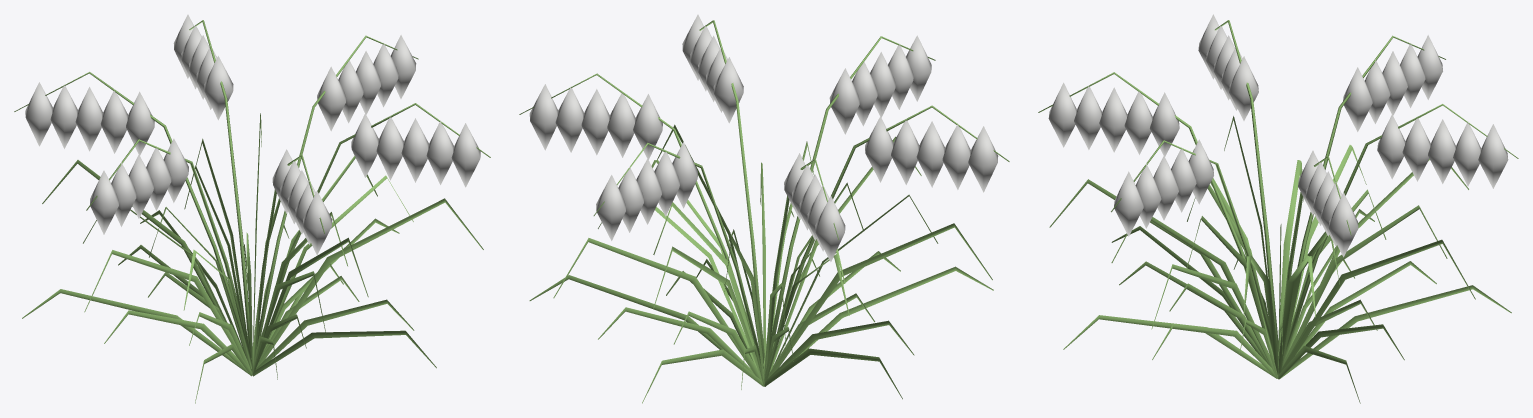
The model's file is grass_feather_grass.glb.
3 renders of one model, left to right at view 1: azimuth 30°, elevation 25°; view 2: azimuth 150°, elevation 25°; view 3: azimuth 270°, elevation 25°, orthographic. The views are drawn at different scales.
Visible parts, largest first — view 1: Flora_Feather_Grass; view 2: Flora_Feather_Grass; view 3: Flora_Feather_Grass.
Boxes of the visible parts, bbox=[...] form: Flora_Feather_Grass: bbox=[14, 14, 490, 403]; Flora_Feather_Grass: bbox=[519, 14, 1009, 403]; Flora_Feather_Grass: bbox=[1038, 14, 1518, 403].
Bounding box in the file's own units: 1.82 × 1.24 × 1.85.
